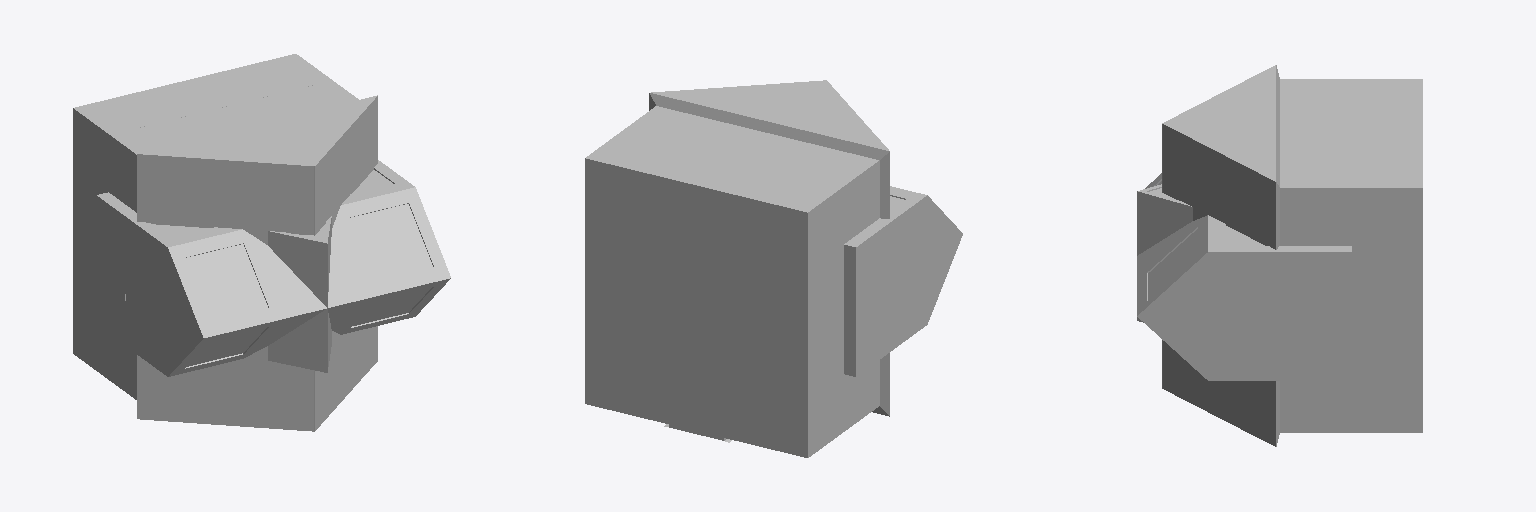
File: house.obj
3 renders of one model, left to right at view 1: azimuth 30°, elevation 25°; view 2: azimuth 150°, elevation 25°; view 3: azimuth 270°, elevation 25°, orthographic.
Visible parts, largest first — view 1: House_Cube, House_Neat_Cube.001; view 2: House_Cube, House_Neat_Cube.001; view 3: House_Cube, House_Neat_Cube.001.
Boxes of the visible parts, <box> form: House_Cube: <box>73,54,377,431</box>; House_Neat_Cube.001: <box>96,160,450,376</box>; House_Cube: <box>585,80,889,457</box>; House_Neat_Cube.001: <box>844,186,962,376</box>; House_Cube: <box>1162,65,1422,446</box>; House_Neat_Cube.001: <box>1137,173,1351,380</box>.
Size of the model in its own units: 4 by 4.09 by 4.